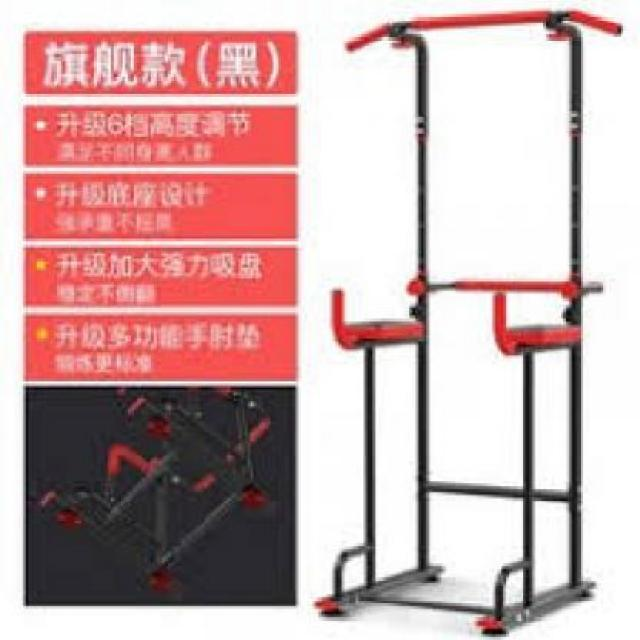chinning dipping: (314, 6, 624, 634)
